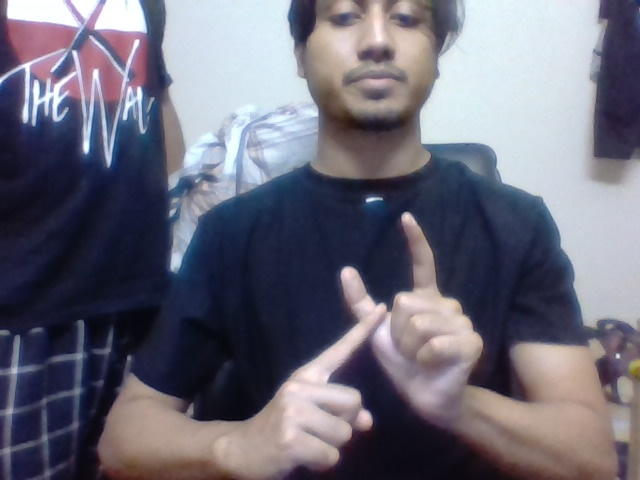Y: (329, 206, 440, 382)
